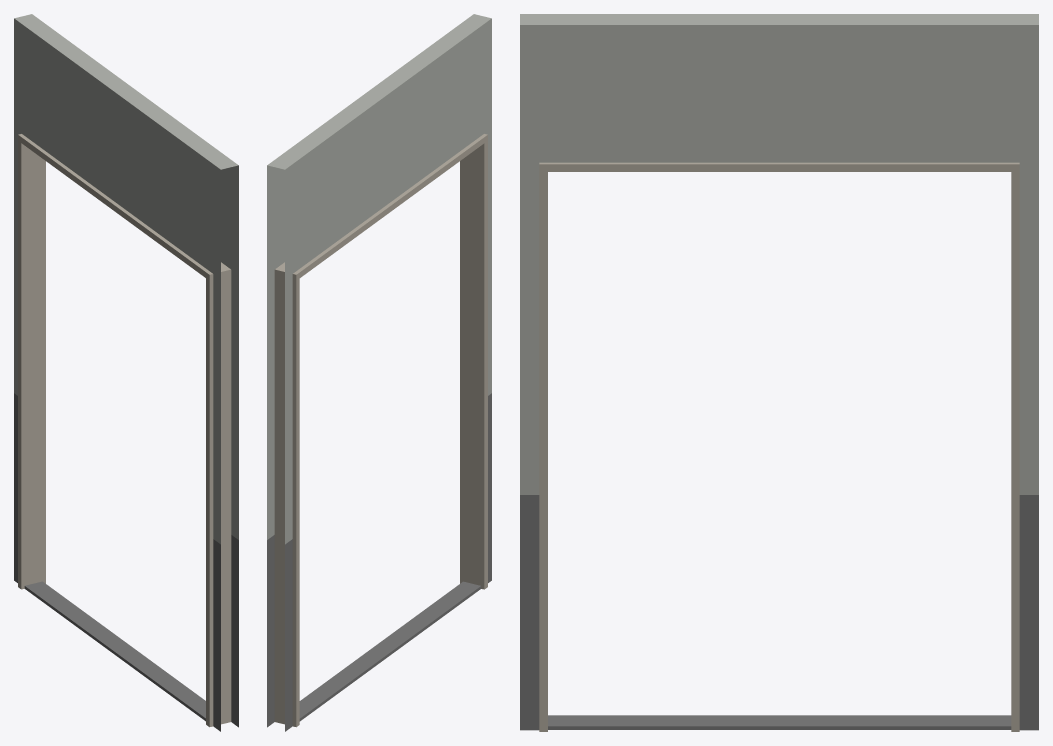
Rendered from SM_Wall_Door_200.fbx.
The picture shows the model from 3 angles, left to right: view 1: azimuth 30°, elevation 25°; view 2: azimuth 150°, elevation 25°; view 3: azimuth 270°, elevation 25°; orthographic projection. The views are drawn at different scales.
Parts seen in each view (by area): view 1: SM_Wall_Door_200; view 2: SM_Wall_Door_200; view 3: SM_Wall_Door_200.
Part boxes in pixels (x1,y1,x2,y2): SM_Wall_Door_200: (14,14,238,731); SM_Wall_Door_200: (267,14,491,731); SM_Wall_Door_200: (520,14,1038,731).
Bounding box in the file's own units: 13.68 × 300 × 200.
